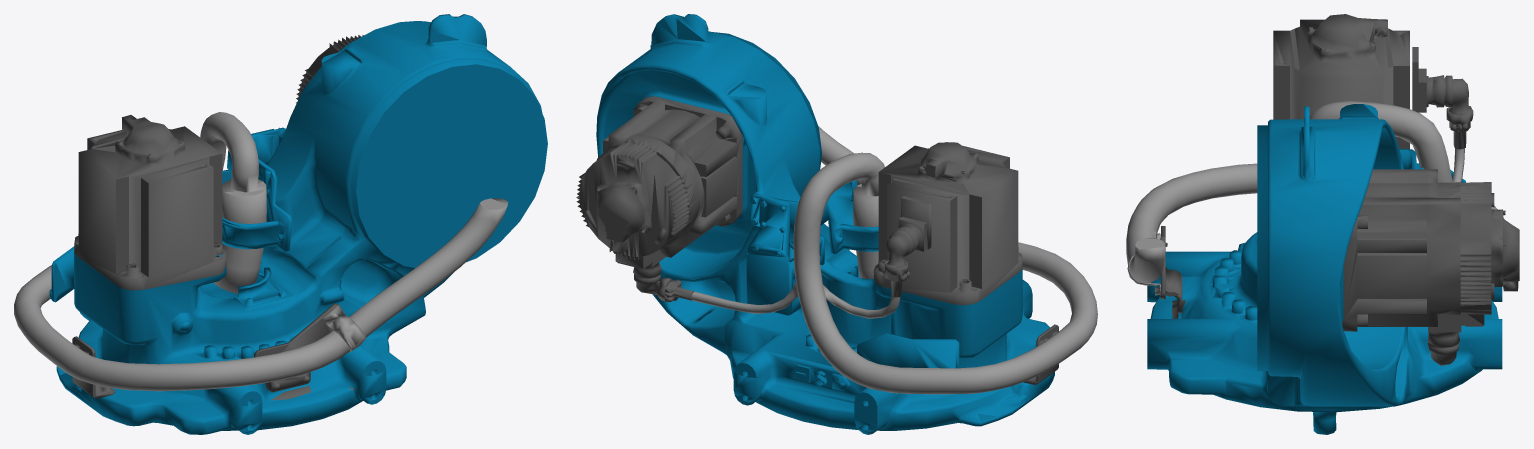
The picture shows the model from 3 angles, left to right: view 1: azimuth 30°, elevation 25°; view 2: azimuth 150°, elevation 25°; view 3: azimuth 270°, elevation 25°; orthographic projection. The views are drawn at different scales.
Visible parts, largest first — view 1: f_1-06vxl70-a0_lk1; view 2: f_1-06vxl70-a0_lk1; view 3: f_1-06vxl70-a0_lk1.
Part boxes in pixels (x1,y1,x2,y2): f_1-06vxl70-a0_lk1: (14, 14, 547, 434); f_1-06vxl70-a0_lk1: (576, 14, 1097, 434); f_1-06vxl70-a0_lk1: (1126, 14, 1519, 434).
Size of the model in its own units: 0.8073 by 0.5189 by 0.5293.
